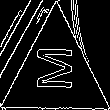M_W: (33, 49, 78, 96)
